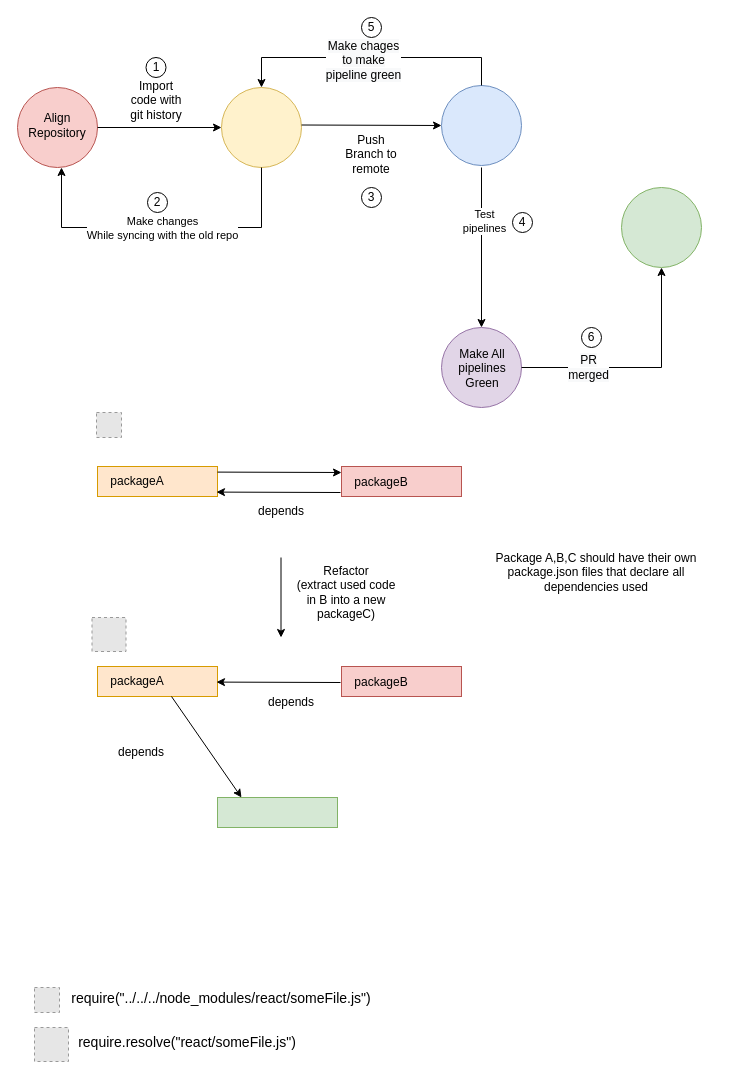
Image size: 729x1079. Some labels were removed from this diagram. Grey dashed boxes stand in for pictures. The centre of each missing label's shape, as x and y in pixels:
Create a Pull Request: point 481,125
Import Code Into 1JS Branch: point 261,127
packageC: point 277,812
Welcome to 🥳 1JS 🎊: point 661,227
